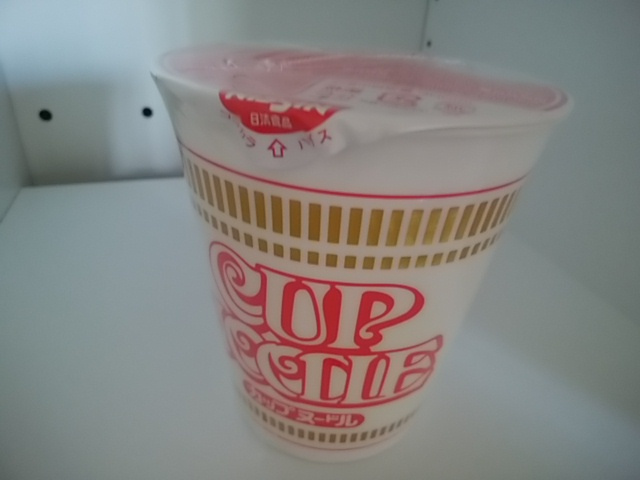cup-ramen: (147, 36, 576, 458)
